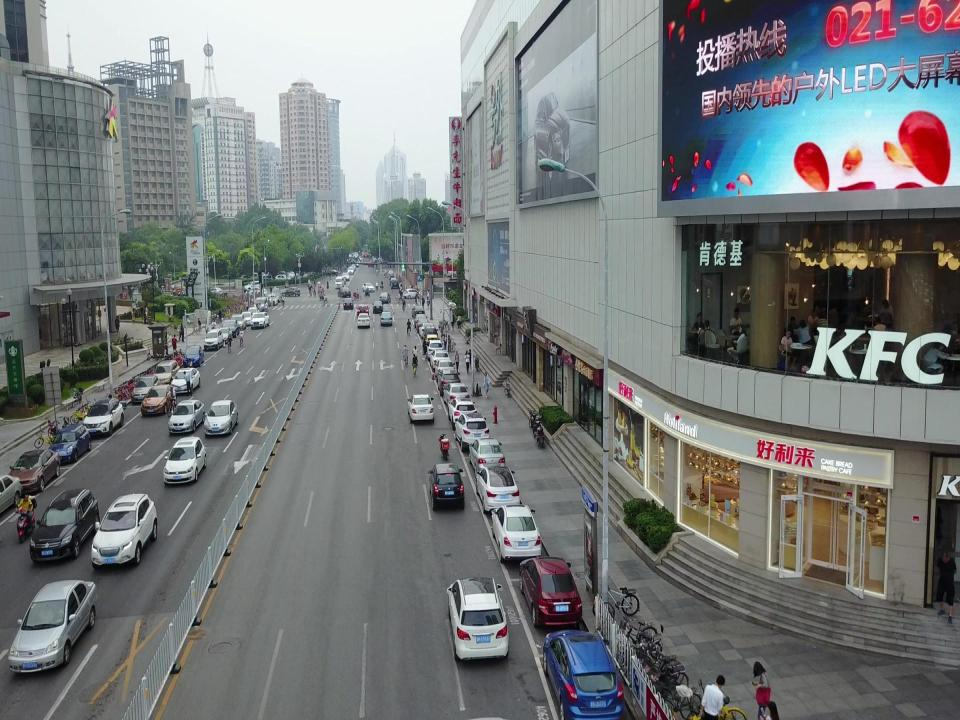car: (9, 577, 96, 674), (542, 631, 624, 718), (445, 575, 509, 664), (29, 489, 101, 561), (92, 493, 158, 567), (519, 556, 583, 630), (491, 504, 541, 563), (7, 450, 61, 492), (476, 464, 520, 514), (163, 436, 207, 485), (428, 463, 464, 512), (47, 426, 91, 462), (82, 398, 124, 435), (468, 436, 507, 474), (204, 400, 239, 437), (168, 400, 204, 434), (455, 412, 489, 448), (140, 384, 176, 417), (446, 397, 479, 430), (131, 374, 161, 402), (441, 384, 472, 411), (408, 392, 434, 424), (170, 368, 201, 394), (436, 369, 462, 396), (152, 360, 180, 385), (421, 338, 445, 360), (434, 359, 456, 382), (183, 345, 205, 367), (430, 348, 452, 370), (204, 329, 224, 350), (222, 319, 241, 338), (250, 312, 270, 329), (354, 311, 371, 329), (243, 278, 263, 292), (230, 314, 246, 331), (421, 327, 439, 342), (218, 326, 232, 344), (419, 323, 437, 337), (245, 287, 267, 298), (204, 286, 224, 297), (424, 335, 440, 348), (414, 314, 428, 328), (416, 318, 430, 332), (380, 312, 393, 327), (403, 288, 421, 298), (282, 287, 300, 297), (241, 312, 253, 326), (356, 304, 370, 316), (248, 306, 260, 319), (337, 287, 351, 298), (411, 306, 425, 317), (372, 301, 384, 313), (379, 292, 391, 303), (343, 298, 354, 309), (362, 282, 374, 291), (390, 280, 398, 289)
van: (253, 297, 269, 311), (334, 276, 344, 289)
